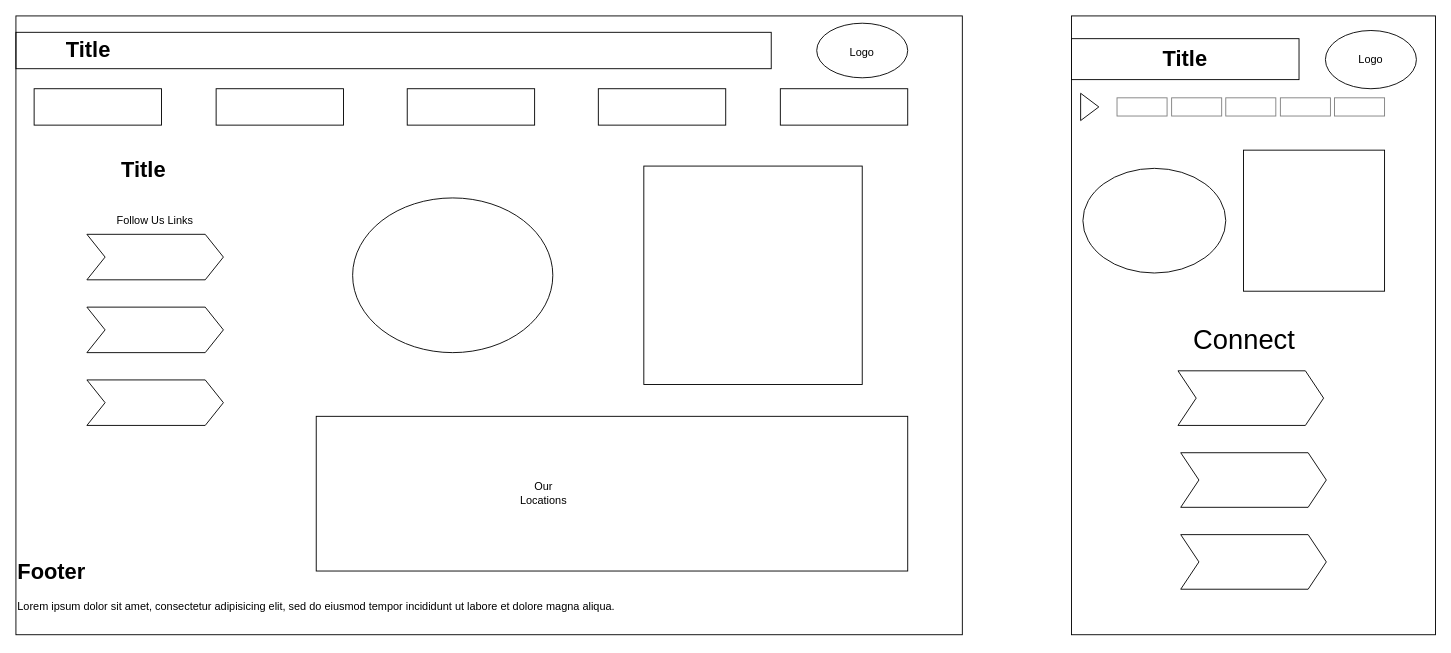
Some shapes in this 1451 by 653 pixel diagram are drawn without their labels. Each missing label, with the centre of its shape:
"Our Purpose" goes at point 452,275.
"Purpose" goes at point 1154,220.
